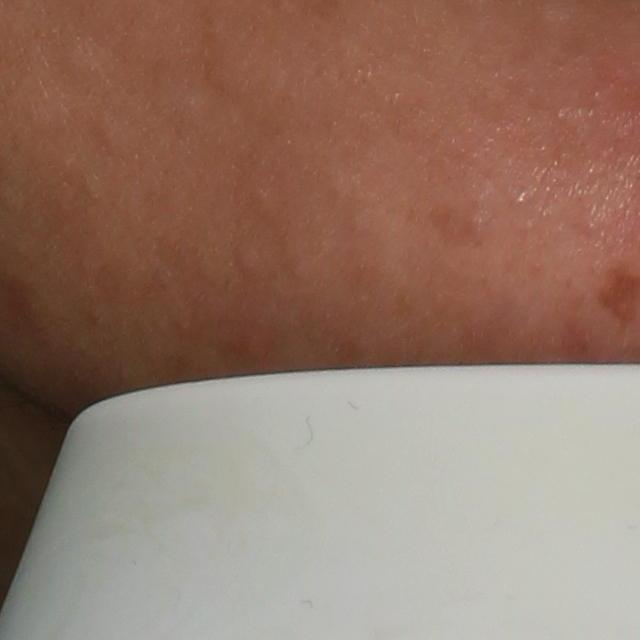comedo: (59, 40, 102, 88), (93, 112, 131, 156), (230, 239, 262, 275)
